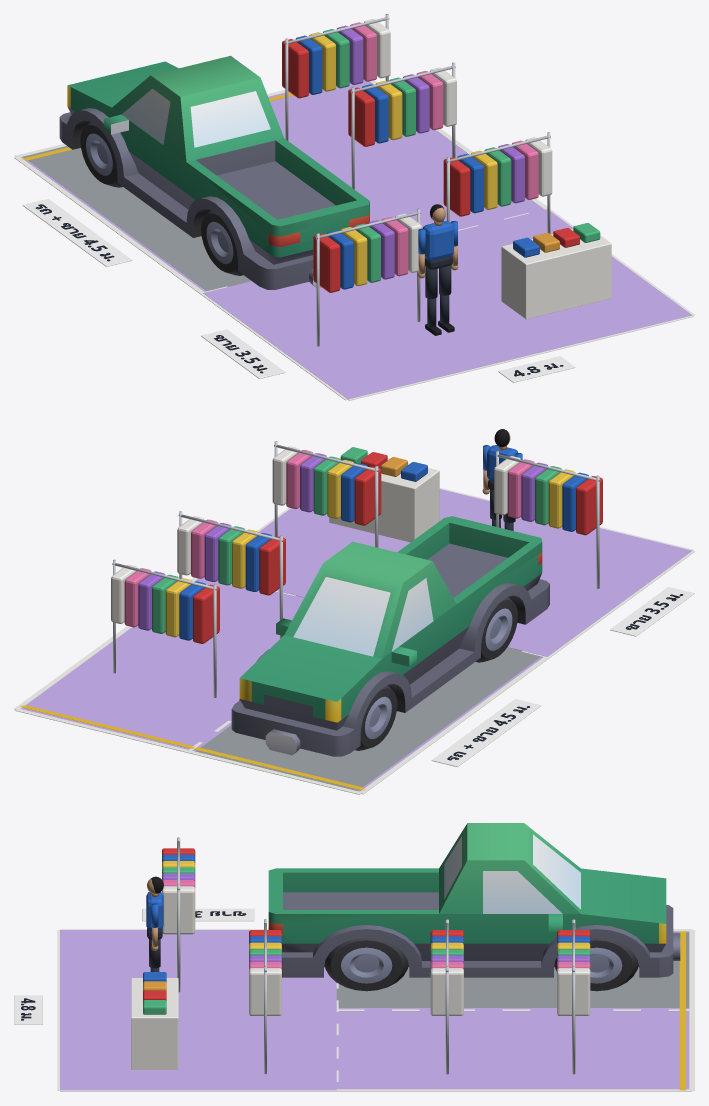
The model's file is lot-boot-2.glb.
3 renders of one model, top to bottom at view 1: azimuth 30°, elevation 25°; view 2: azimuth 150°, elevation 25°; view 3: azimuth 270°, elevation 25°, orthographic. The views are drawn at different scales.
Visible parts, largest first — view 1: body, Cube, Cube.048, Cube.049, Cube.032, Cube.066, Cube.002, wheel-front-left, wheel-back-left, Cube.065, Cube.025, Cube.057 (+30 smaller); view 2: body, Cube.048, Cube, Cube.049, Cube.032, Cube.066, Cube.002, wheel-front-left, wheel-back-left, Cube.065, Cube.024, Cube.004 (+29 smaller); view 3: body, Cube, Cube.048, Cube.049, Cube.032, wheel-back-right, wheel-front-right, Cube.003, Cube.056, Cube.063, Cube.031, Cube.043 (+8 smaller).
Boxes of the visible parts, x1,y1,x2,y2 form: body: [59, 55, 369, 289]; Cube: [203, 209, 691, 399]; Cube.048: [21, 80, 544, 291]; Cube.049: [23, 146, 251, 290]; Cube.032: [501, 229, 611, 319]; Cube.066: [22, 198, 132, 266]; Cube.002: [14, 156, 347, 400]; wheel-front-left: [80, 122, 122, 187]; wheel-back-left: [201, 210, 243, 275]; Cube.065: [201, 329, 285, 378]; Cube.025: [313, 233, 340, 292]; Cube.057: [282, 39, 308, 98]; body: [231, 516, 549, 756]; Cube.048: [21, 577, 543, 791]; Cube: [258, 489, 691, 656]; Cube.049: [195, 647, 540, 790]; Cube.032: [329, 453, 439, 542]; Cube.066: [431, 699, 541, 766]; Cube.002: [359, 551, 694, 794]; wheel-front-left: [355, 685, 397, 750]; wheel-back-left: [475, 597, 517, 662]; Cube.065: [610, 587, 694, 636]; Cube.024: [20, 705, 365, 790]; Cube.004: [15, 709, 360, 794]; body: [268, 823, 680, 977]; Cube: [60, 930, 336, 1090]; Cube.048: [336, 931, 689, 1089]; Cube.049: [336, 932, 689, 1007]; Cube.032: [131, 978, 178, 1069]; wheel-back-right: [324, 938, 408, 991]; wheel-front-right: [554, 938, 638, 991]; Cube.003: [60, 1089, 692, 1091]; Cube.056: [430, 968, 463, 1015]; Cube.063: [557, 968, 590, 1015]; Cube.031: [162, 886, 195, 934]; Cube.043: [249, 968, 281, 1015].
Bounding box in the file's own units: 5.47 × 1.8 × 8.62.
Materials: 24 (1 with a texture image).
